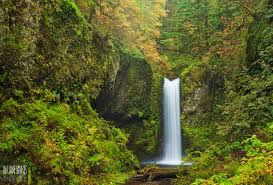mountain: (2, 1, 273, 184)
waterfall: (142, 60, 196, 185)
